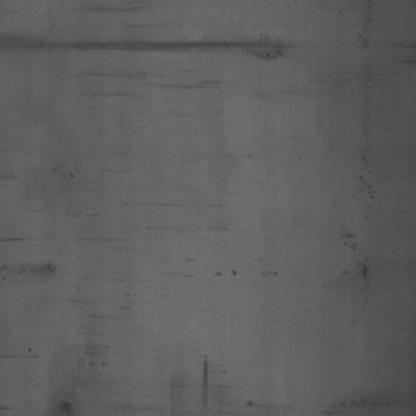water_spot: (15, 23, 300, 82)
